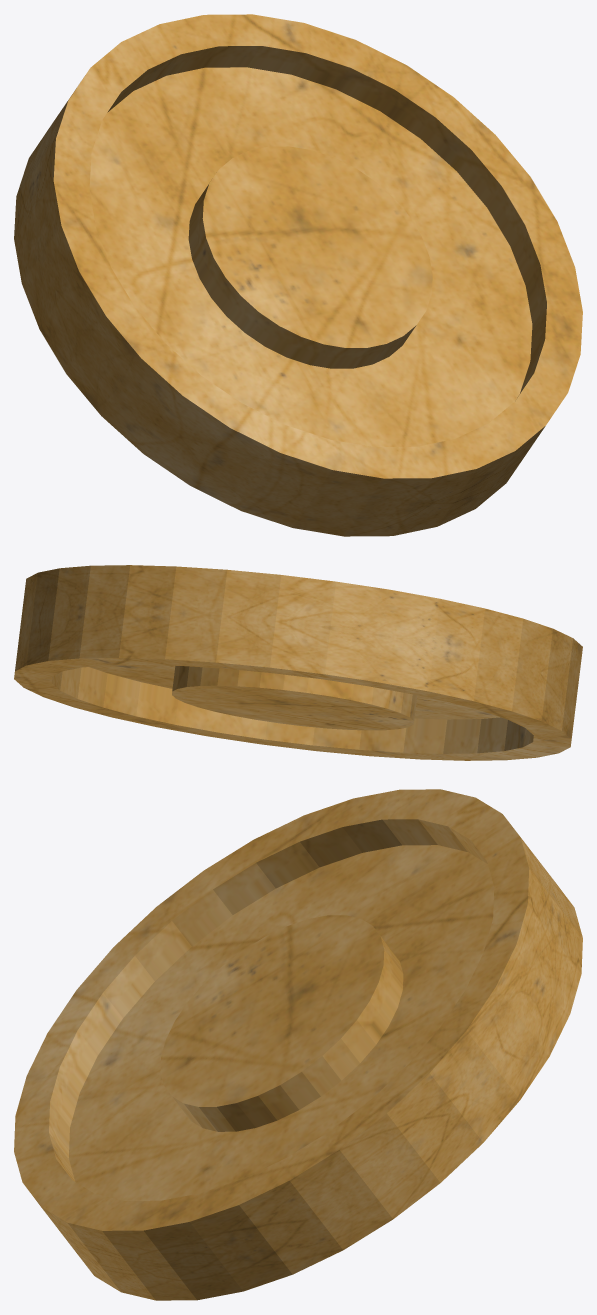
Rendered from Coin.fbx.
3 views of the same model, one above another, from view 1: azimuth 30°, elevation 25°; view 2: azimuth 150°, elevation 25°; view 3: azimuth 270°, elevation 25° (orthographic). The views are drawn at different scales.
Parts seen in each view (by area): view 1: Cylinder.001; view 2: Cylinder.001; view 3: Cylinder.001.
Boxes of the visible parts, x1,y1,x2,y2 form: Cylinder.001: (14, 14, 582, 536); Cylinder.001: (14, 565, 582, 760); Cylinder.001: (14, 789, 582, 1300).
Size of the model in its own units: 203 by 138 by 187.
Materials: 1 (1 with a texture image).
